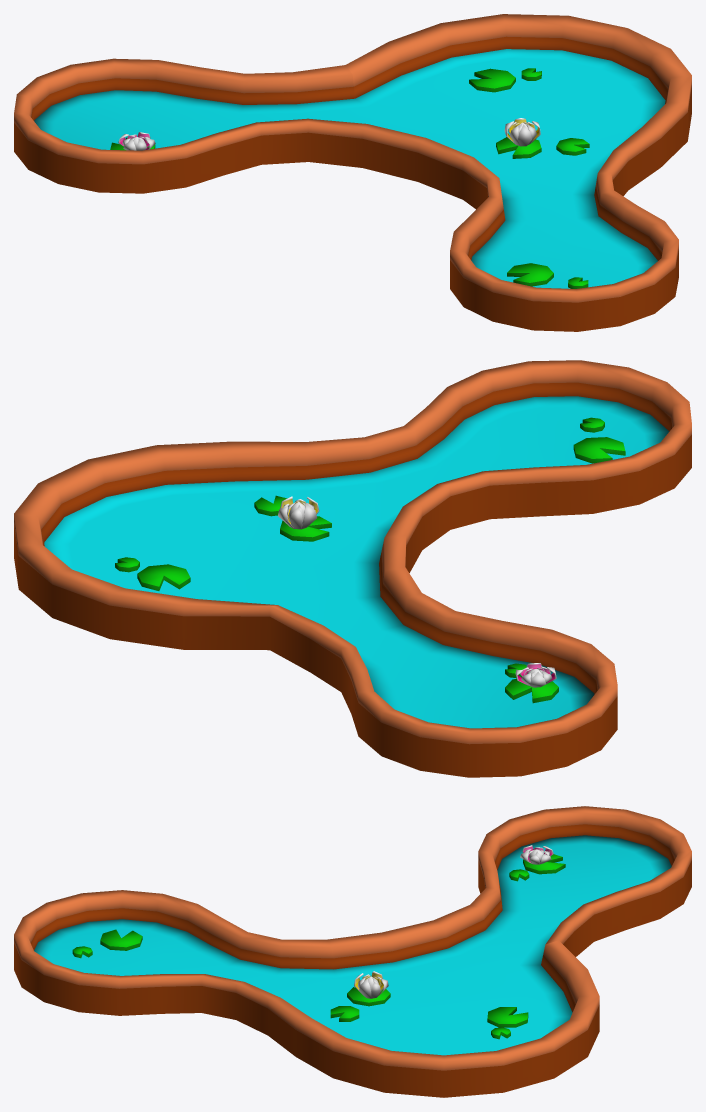
Rendered from LagoPatos.fbx.
The picture shows the model from 3 angles, top to bottom: view 1: azimuth 30°, elevation 25°; view 2: azimuth 150°, elevation 25°; view 3: azimuth 270°, elevation 25°; orthographic projection. The views are drawn at different scales.
Visible parts, largest first — view 1: LagoPatos; view 2: LagoPatos; view 3: LagoPatos.
Part boxes in pixels (x1,y1,x2,y2): LagoPatos: (14,14,691,331); LagoPatos: (14,360,691,777); LagoPatos: (14,806,691,1097).
Bounding box in the file's own units: 1057 × 74.23 × 1182.
